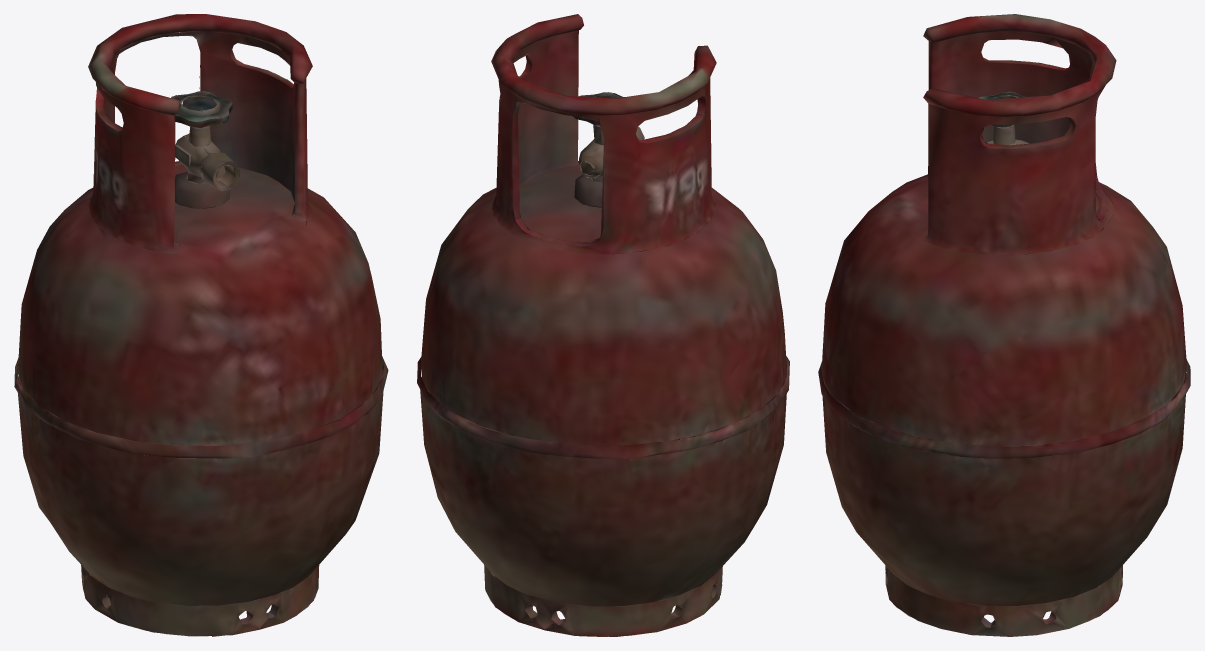
The model's file is small_lpg_tank.gltf.
3 views of the same model, side by side, from view 1: azimuth 30°, elevation 25°; view 2: azimuth 150°, elevation 25°; view 3: azimuth 270°, elevation 25° (orthographic).
Visible parts, largest first — view 1: small_lpg_tank; view 2: small_lpg_tank; view 3: small_lpg_tank.
Boxes of the visible parts, box(x1,y1,x2,y2) form: small_lpg_tank: box(14, 14, 388, 636); small_lpg_tank: box(417, 14, 789, 636); small_lpg_tank: box(818, 14, 1190, 636).
Bounding box in the file's own units: 0.4101 × 0.6433 × 0.4097.
Materials: 1 (1 with a texture image).
